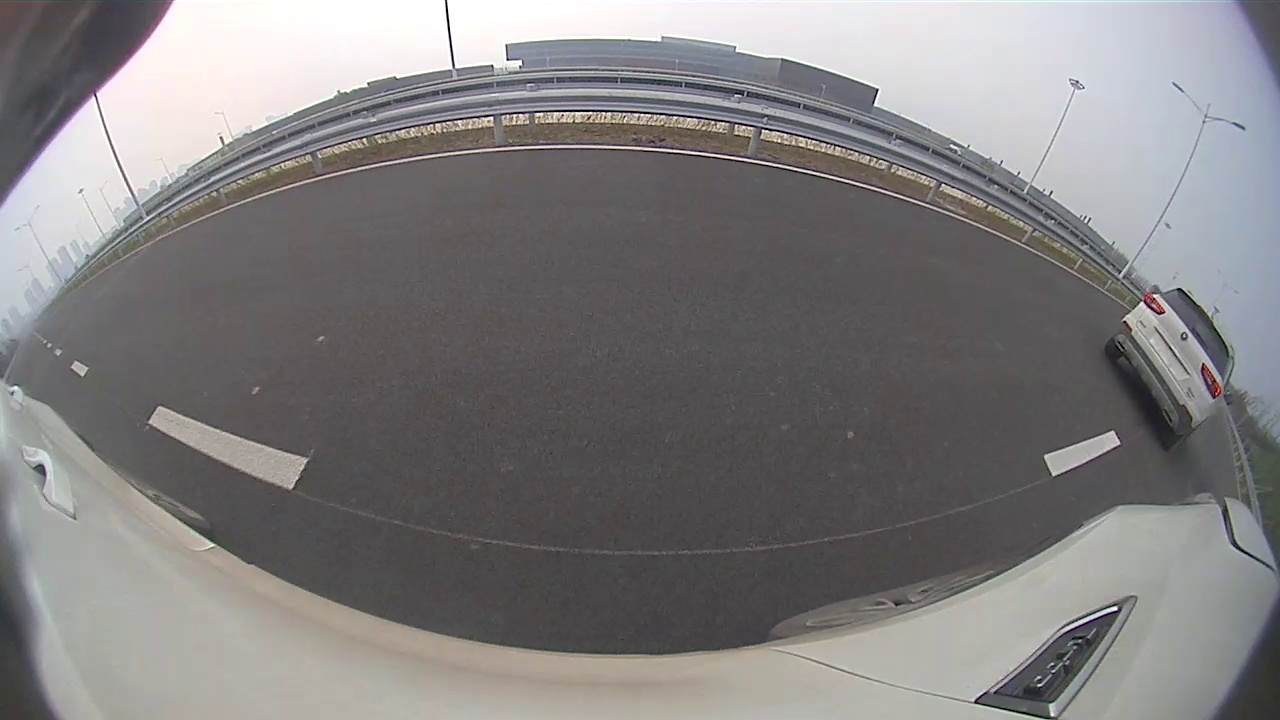car: (615, 146, 669, 192)
